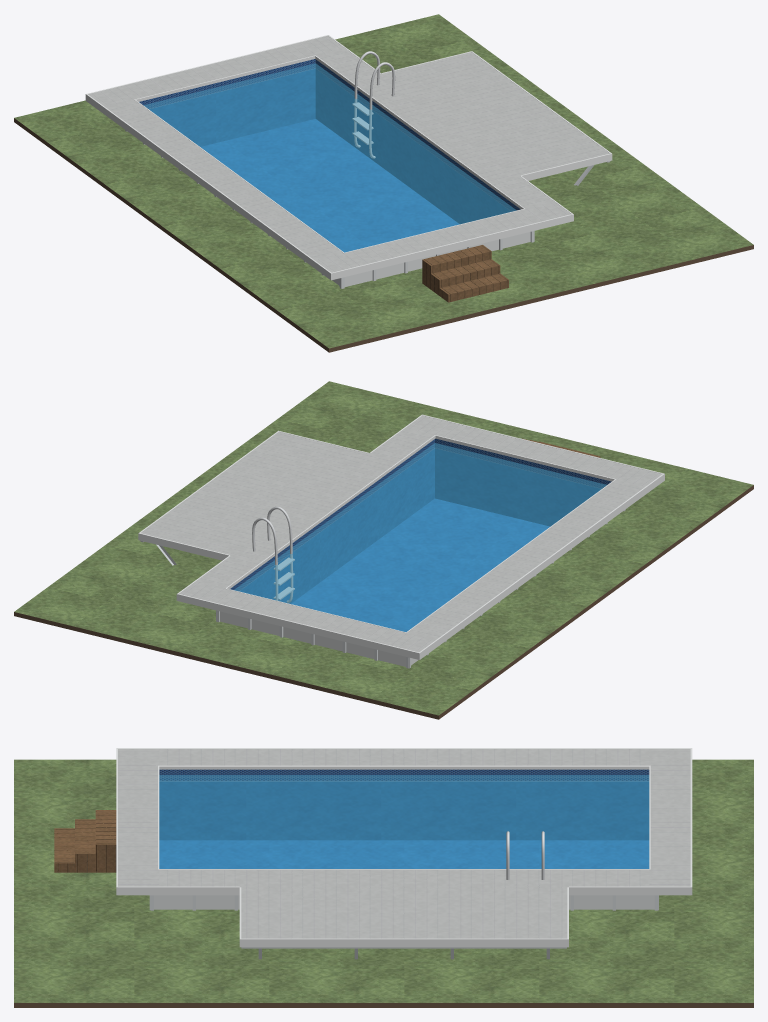
The model's file is kayak-pool-12x24-white-t-rec-nofence.a46b5f32e0.glb.
The picture shows the model from 3 angles, top to bottom: view 1: azimuth 30°, elevation 25°; view 2: azimuth 150°, elevation 25°; view 3: azimuth 270°, elevation 25°; orthographic projection. The views are drawn at different scales.
Visible parts, largest first — view 1: ground, water, deck, liner_wall, liner_floor, fascia, soil, steps, wall, steel; view 2: ground, water, deck, liner_wall, liner_floor, fascia, soil, wall, steel; view 3: ground, water, deck, liner_wall, liner_floor, fascia, soil, steps, wall, stud.
Part boxes in pixels (x1,y1,x2,y2): ground: (14, 14, 753, 348); water: (143, 63, 516, 252); deck: (88, 36, 609, 272); liner_wall: (139, 59, 520, 224); liner_floor: (201, 119, 459, 252); fascia: (85, 35, 612, 280); soil: (14, 118, 753, 352); steps: (422, 245, 508, 302); wall: (332, 232, 530, 286); steel: (352, 51, 395, 158); ground: (14, 381, 753, 715); water: (234, 443, 606, 631); deck: (141, 415, 662, 652); liner_wall: (230, 438, 611, 603); liner_floor: (291, 498, 549, 631); fascia: (138, 414, 664, 659); soil: (14, 485, 753, 719); wall: (220, 611, 417, 666); steel: (252, 506, 294, 602); ground: (14, 759, 753, 1002); water: (159, 775, 649, 868); deck: (118, 749, 690, 938); liner_wall: (159, 769, 649, 840); liner_floor: (159, 840, 649, 868); fascia: (116, 748, 692, 947); soil: (14, 1003, 753, 1007); steps: (54, 810, 116, 872); wall: (154, 895, 654, 909); stud: (241, 947, 566, 959).
Bounding box in the file's own units: 8.53 × 1.9 × 10.97.
Materials: 12 (5 with a texture image).
